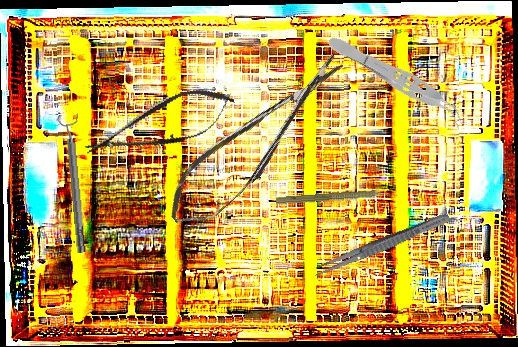Dressing Forceps: (311, 209, 452, 281)
Fixation Ring: (56, 113, 93, 254)
Handpiece: (275, 186, 398, 210)
Micro Scissor: (154, 44, 361, 239), (78, 76, 242, 174)
Tissue Forceps: (323, 29, 471, 130)
